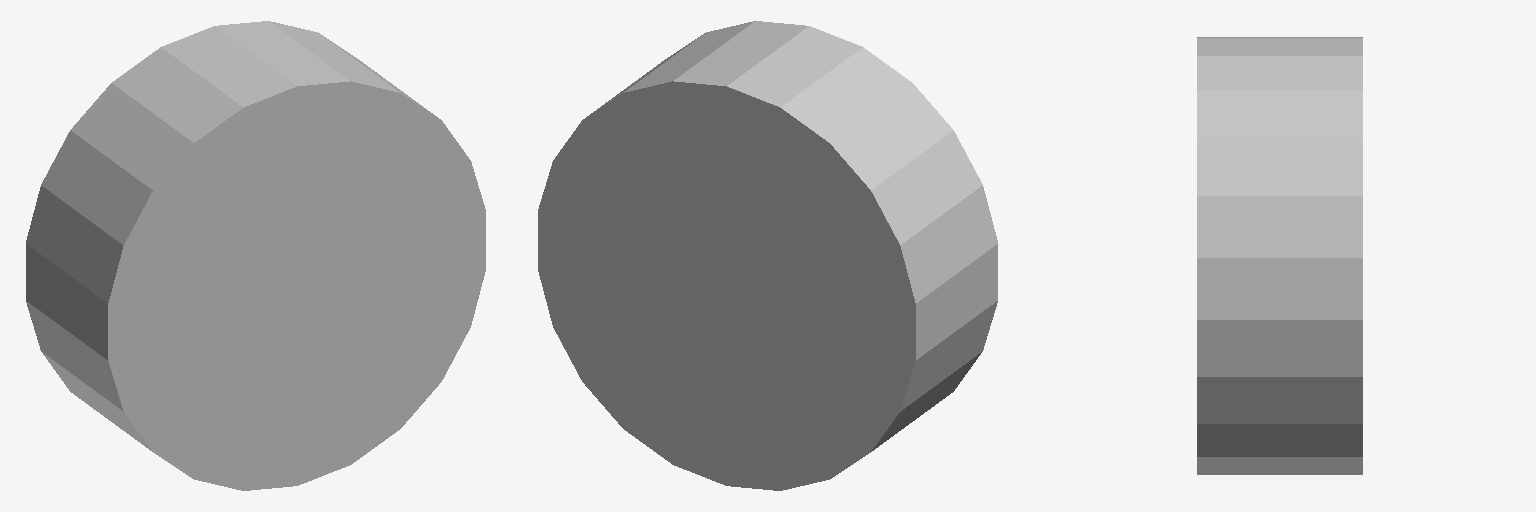
File: wheel.obj
3 views of the same model, side by side, from view 1: azimuth 30°, elevation 25°; view 2: azimuth 150°, elevation 25°; view 3: azimuth 270°, elevation 25° (orthographic).
Parts seen in each view (by area): view 1: Cylinder; view 2: Cylinder; view 3: Cylinder.
Boxes of the visible parts, box(x1,y1,x2,y2) form: Cylinder: box(26, 21, 485, 490); Cylinder: box(538, 21, 997, 490); Cylinder: box(1197, 37, 1362, 474).
Size of the model in its own units: 0.7919 by 0.8 by 0.3.